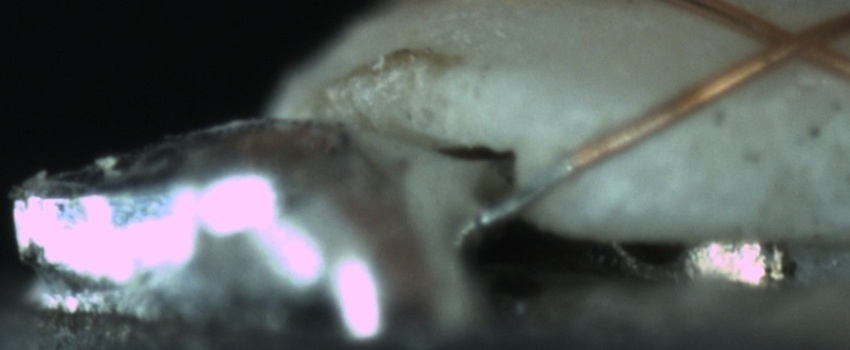CL: (743, 10, 844, 76)
TS: (483, 158, 577, 226)
TTCW: (474, 132, 612, 232)
